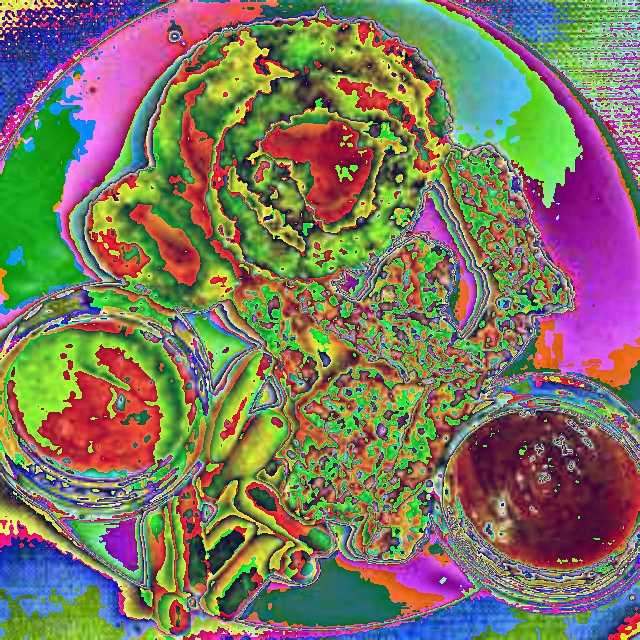background: (0, 8, 573, 637), (187, 170, 639, 574)
